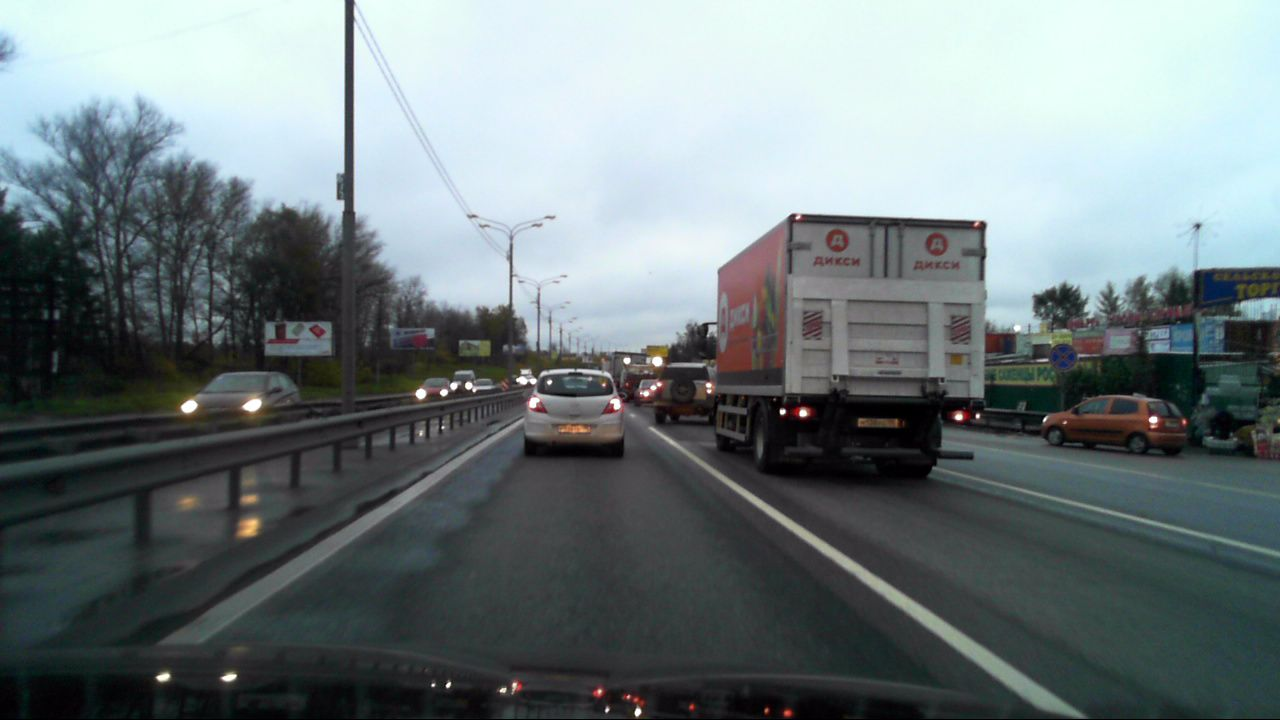No Parking: (1049, 343, 1076, 369)
